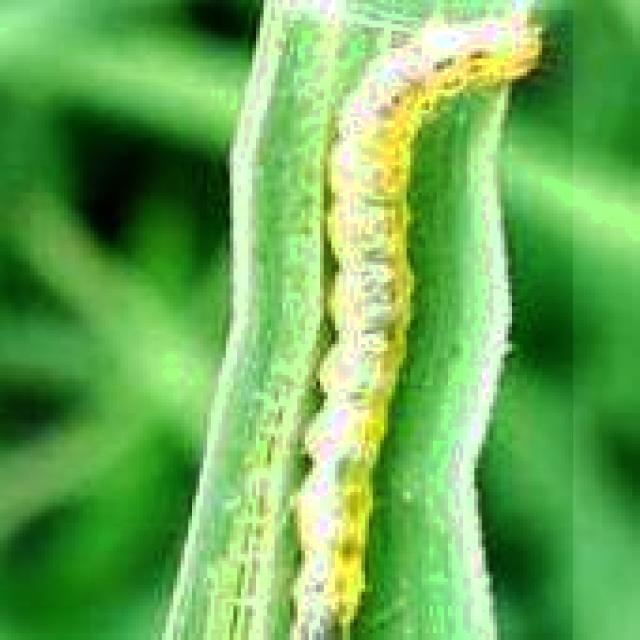leaf-folder: (259, 10, 573, 640)
